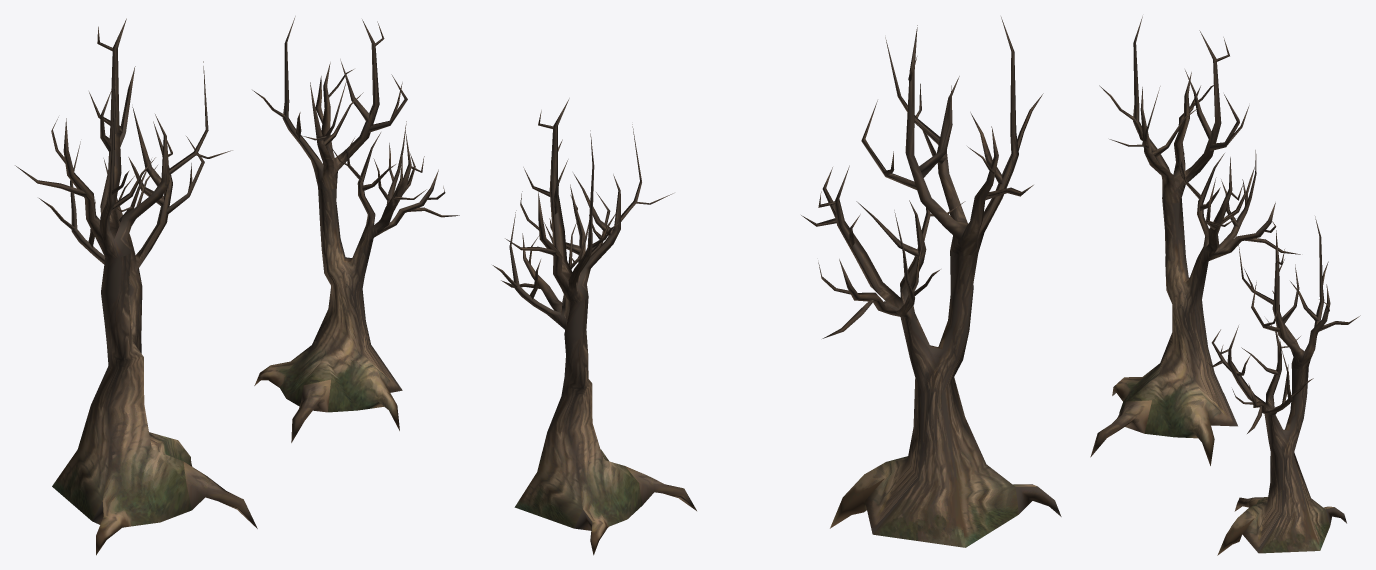
Rendered from plants_tall_tree_trunks05.fbx.
3 renders of one model, left to right at view 1: azimuth 30°, elevation 25°; view 2: azimuth 150°, elevation 25°; view 3: azimuth 270°, elevation 25°, orthographic. The views are drawn at different scales.
Visible parts, largest first — view 1: Material_#238683193/fancy_tree; view 2: Material_#238683193/fancy_tree; view 3: Material_#238683193/fancy_tree.
Boxes of the visible parts, box(x1,y1,x2,y2) form: Material_#238683193/fancy_tree: box(15, 16, 459, 555); Material_#238683193/fancy_tree: box(492, 17, 1061, 555); Material_#238683193/fancy_tree: box(1090, 16, 1360, 555).
Bounding box in the file's own units: 9.56 × 9.45 × 5.65.
